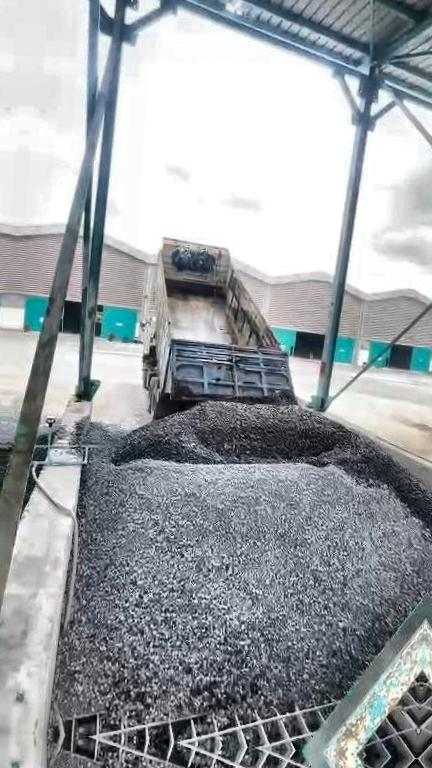gravel: (57, 415, 432, 723), (112, 401, 432, 522), (0, 416, 15, 491)
sand: (401, 419, 432, 463)
